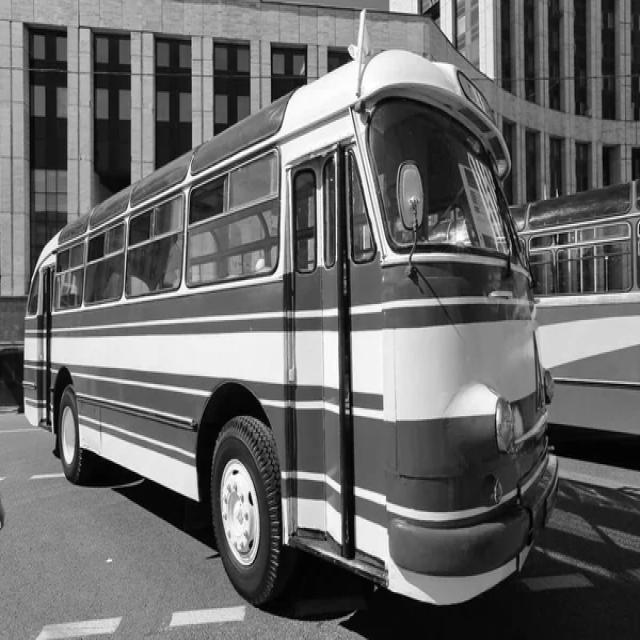Bus: (25, 37, 560, 606)
